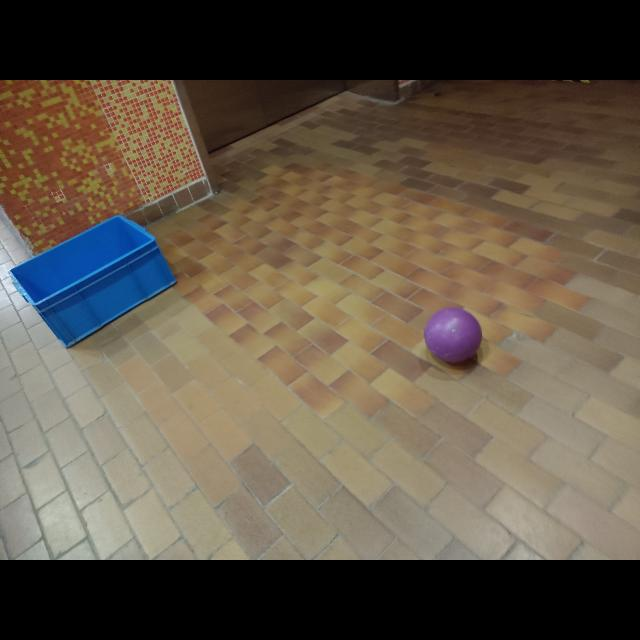P: (425, 308, 483, 364)
